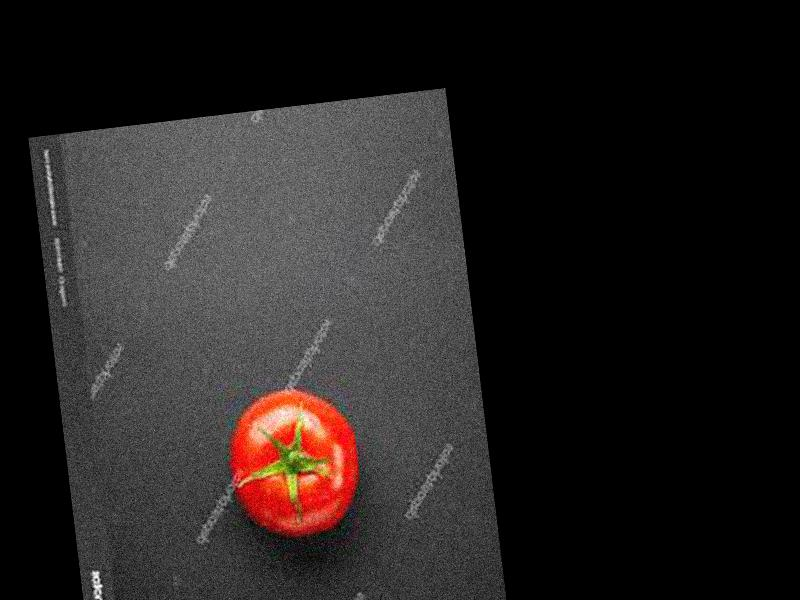Tomato: (221, 379, 367, 542)
